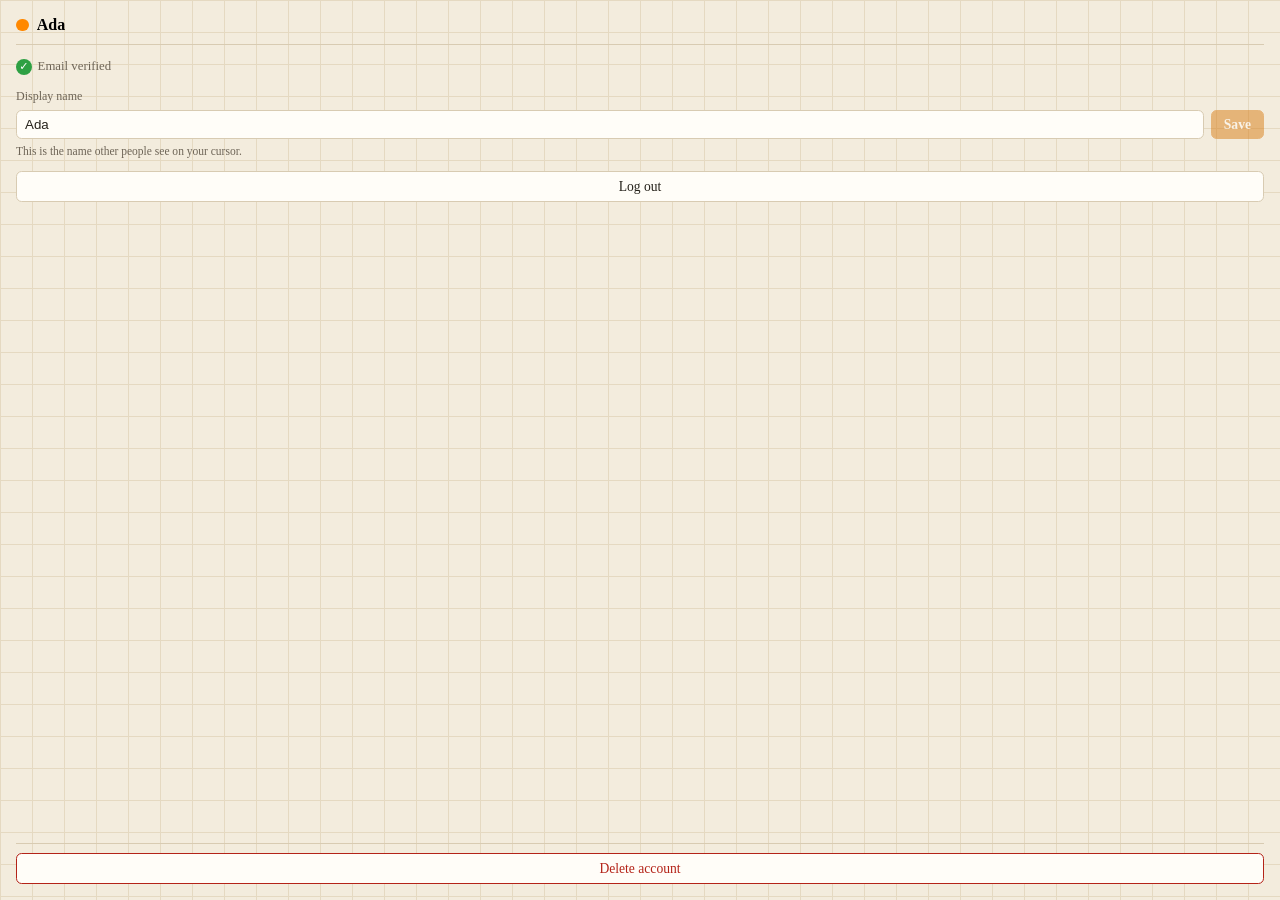
Test: AccountTab rename › reports why a rename was refused
This screenshot has width=1280, height=900.
Step 1. Replace the text in the field labelled "Display name" with "G" → x=610, y=125, box 16,110 -> 1204,139
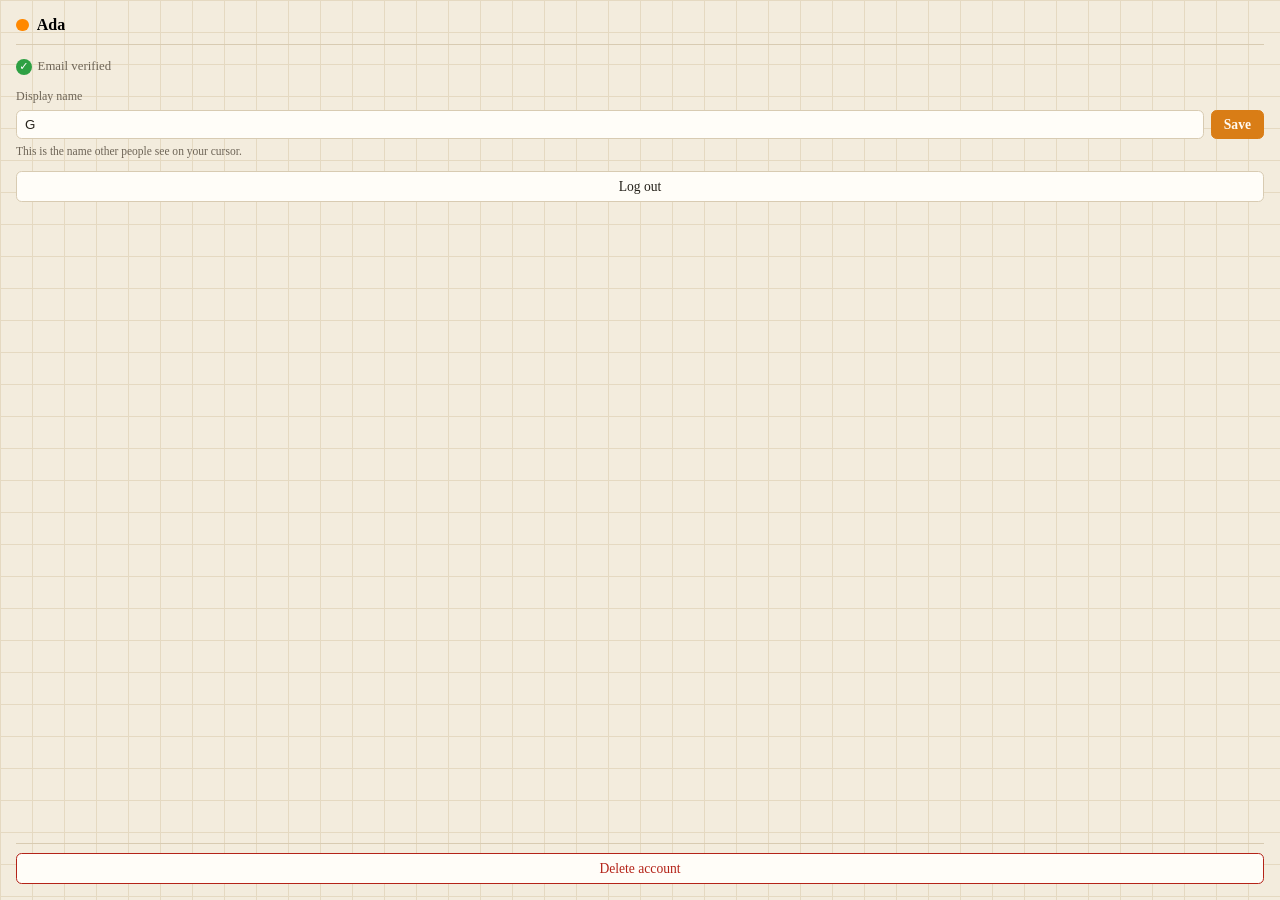
Step 2. Click the button "Save" → x=1237, y=125, box 1211,110 -> 1264,139
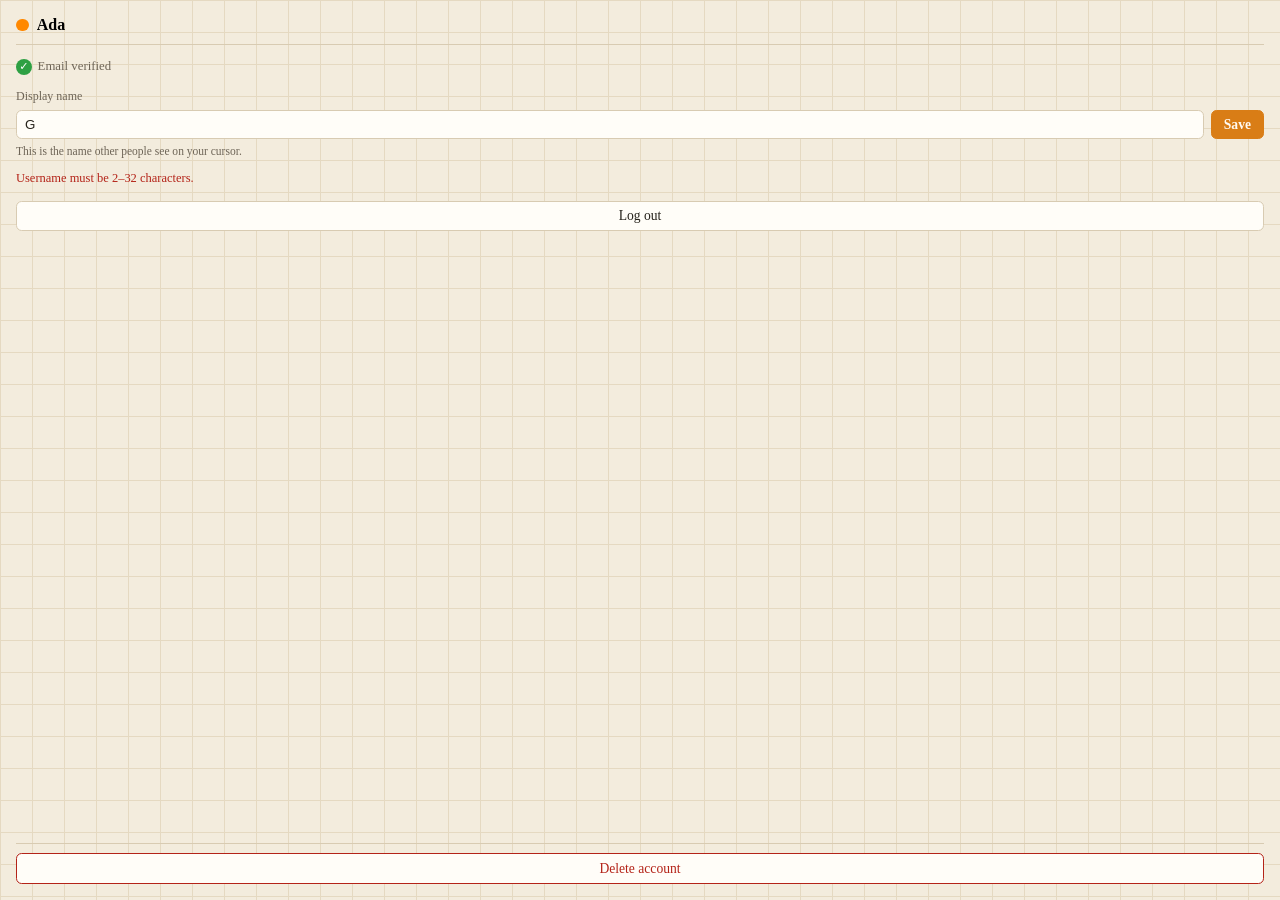
Expected: the message "Username must be 2–32 characters." is shown, 16,171 -> 194,185
